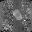people: (13, 9, 23, 21)
